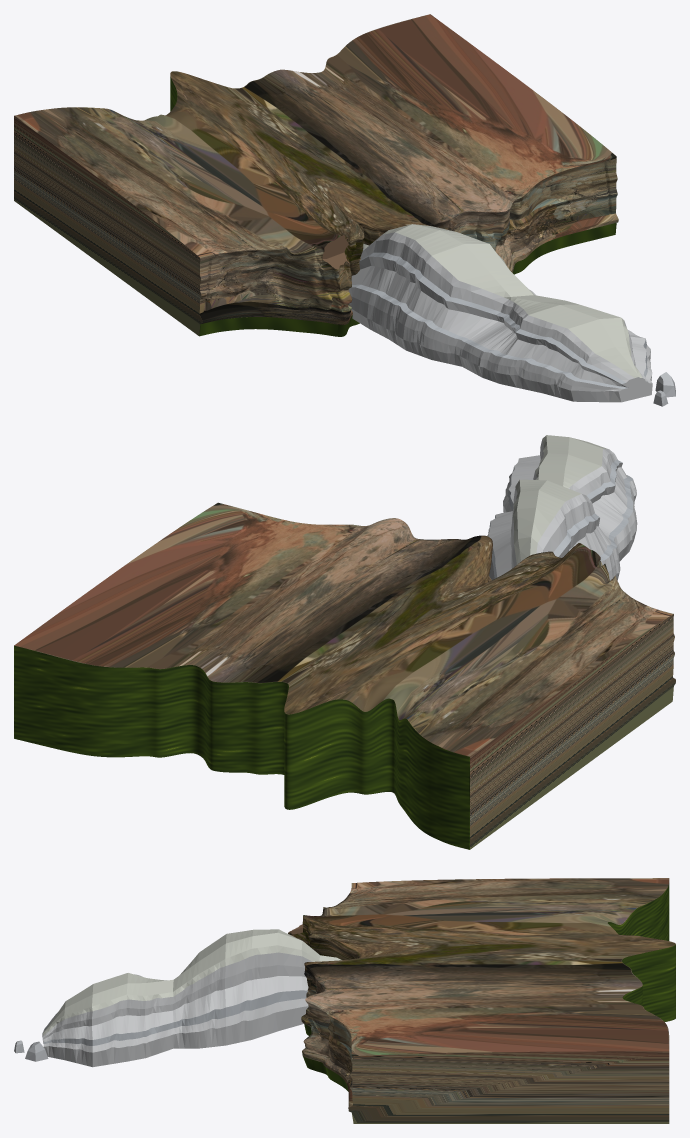
The model's file is cliff-v4.glb.
3 renders of one model, top to bottom at view 1: azimuth 30°, elevation 25°; view 2: azimuth 150°, elevation 25°; view 3: azimuth 270°, elevation 25°, orthographic. The views are drawn at different scales.
Visible parts, largest first — view 1: V4 | sea-axis headland and meadow return; view 2: V4 | sea-axis headland and meadow return; view 3: V4 | sea-axis headland and meadow return.
Part boxes in pixels (left/top/right/bottom): V4 | sea-axis headland and meadow return: left=14, top=14, right=652, bottom=402; V4 | sea-axis headland and meadow return: left=14, top=435, right=675, bottom=849; V4 | sea-axis headland and meadow return: left=42, top=878, right=675, bottom=1123.
Bounding box in the file's own units: 40 × 9.68 × 64.61.
8 materials, 2 textured.
